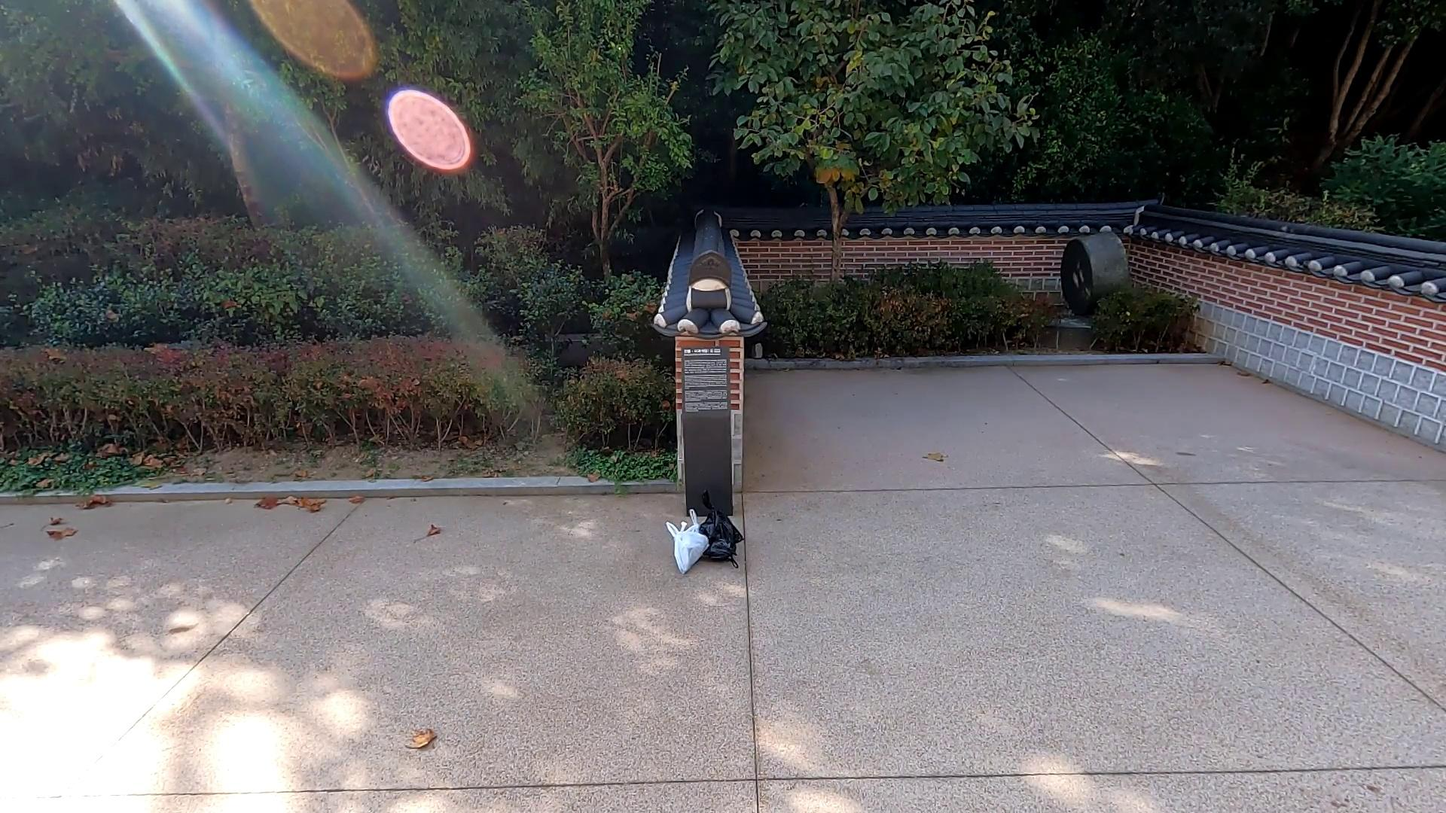trash: (695, 490, 746, 550), (660, 518, 712, 575), (703, 521, 740, 572), (678, 503, 706, 541)
